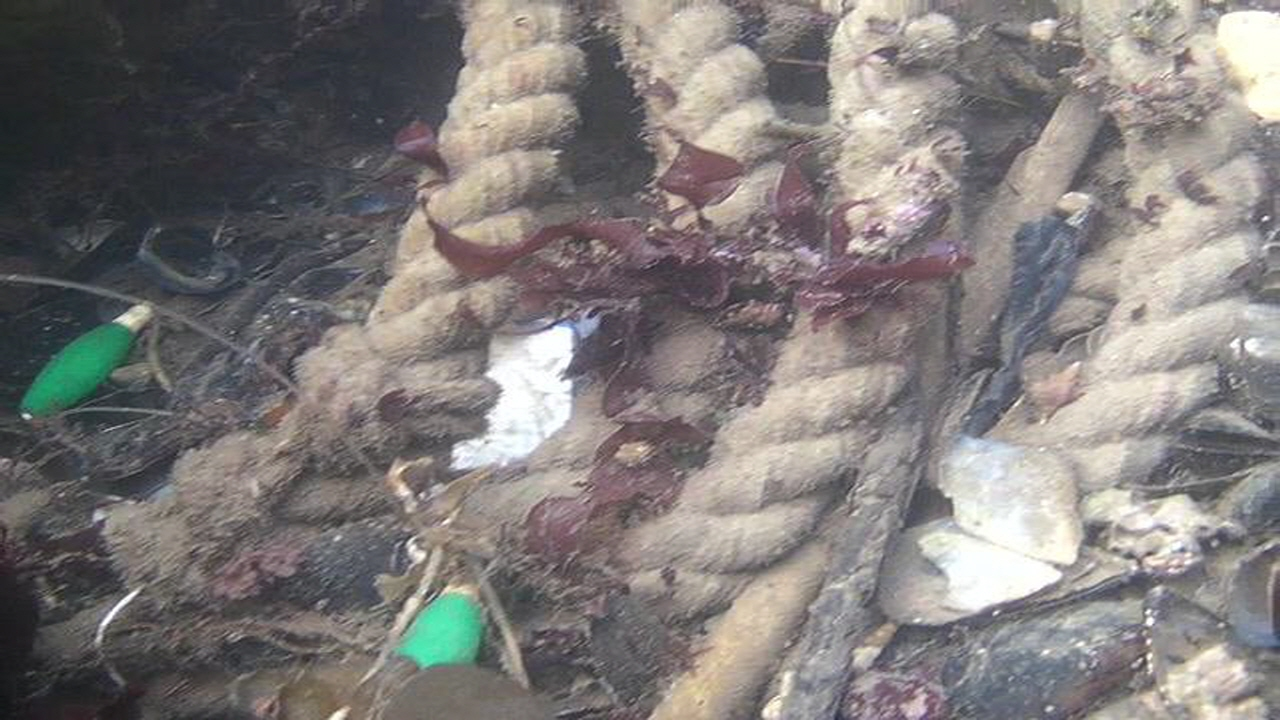bundle of ropes: (274, 0, 1265, 617)
